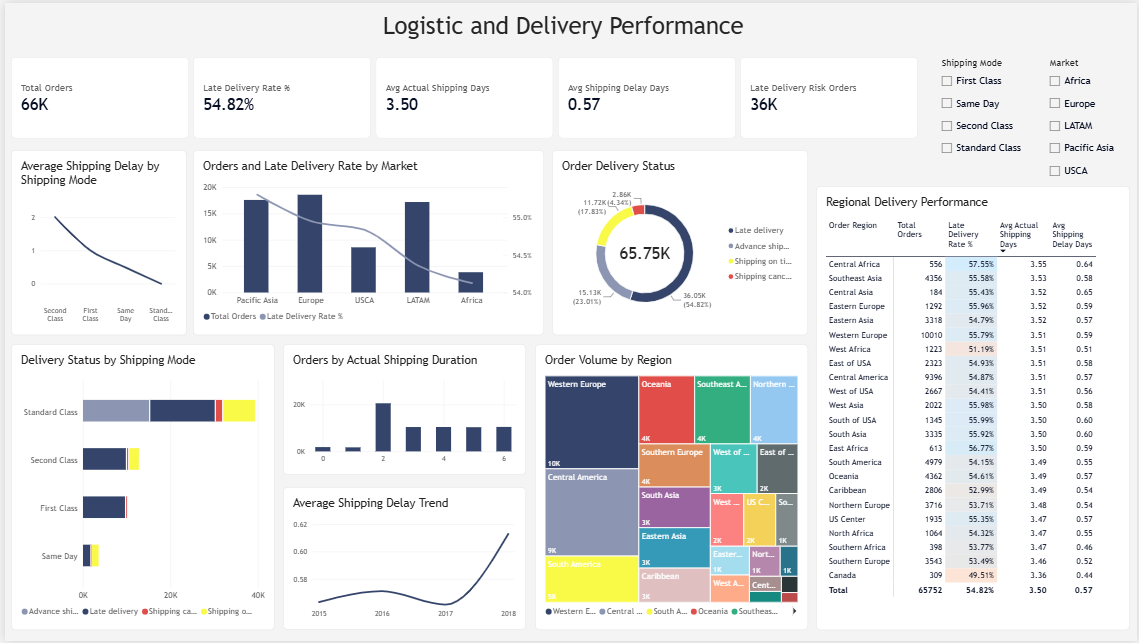

This screenshot's page, from the dashboard's own definition file:
{"tool":"powerbi","page":{"name":"Logistics & Delivery Performance","canvas":[1920,1080],"ordinal":3},"visuals":[{"type":"cardVisual","fields":{"Data":["orders.Total Orders","customers.Late Delivery Rate %","customers.Avg Actual Shipping Days","customers.Avg Shipping Delay Days","customers.Late Delivery Risk Orders"]},"box":[10.2,91.5,1540.7,139],"z":0},{"type":"donutChart","title":"Order Delivery Status","fields":{"Category":["orders.Delivery Status"],"Y":["Count(orders.Order Id)"]},"box":[927.1,249.2,433.9,313.6],"z":1000},{"type":"barChart","title":"Delivery Status by Shipping Mode","fields":{"Category":["orders.Shipping Mode"],"Series":["orders.Delivery Status"],"Y":["Count(orders.Order Id)"]},"box":[10.2,578,447.5,484.7],"z":2000},{"type":"lineChart","title":"Average Shipping Delay by Shipping Mode","fields":{"Category":["orders.Shipping Mode"],"Y":["customers.Avg Shipping Delay Days"]},"box":[10.2,249.2,298.3,313.6],"z":3000},{"type":"lineClusteredColumnComboChart","title":"Orders and Late Delivery Rate by Market","fields":{"Category":["orders.Market"],"Y":["orders.Total Orders"],"Y2":["customers.Late Delivery Rate %"]},"box":[318.6,249.2,594.9,313.6],"z":4000},{"type":"pivotTable","title":"Regional Delivery Performance","fields":{"Rows":["orders.Order Region"],"Values":["orders.Total Orders","customers.Late Delivery Rate %","customers.Avg Actual Shipping Days","customers.Avg Shipping Delay Days"]},"box":[1374.6,310.2,532.2,752.5],"z":5000},{"type":"lineChart","title":"Average Shipping Delay Trend","fields":{"Category":["orders.order date (DateOrders).Variation.Date Hierarchy.Year","orders.order date (DateOrders).Variation.Date Hierarchy.Quarter","orders.order date (DateOrders).Variation.Date Hierarchy.Month"],"Y":["customers.Avg Shipping Delay Days"]},"box":[471.2,820.3,411.9,242.4],"z":6000},{"type":"clusteredColumnChart","title":"Orders by Actual Shipping Duration","fields":{"Category":["orders.Days for shipping (real)"],"Y":["orders.Total Orders"]},"box":[471.2,578,411.9,222],"z":7000},{"type":"slicer","fields":{"Values":["orders.Shipping Mode"]},"box":[1579.7,91.5,183.1,172.9],"z":8000},{"type":"slicer","fields":{"Values":["orders.Market"]},"box":[1762.7,91.5,144.1,215.3],"z":9000},{"type":"treemap","title":"Order Volume by Region","fields":{"Group":["orders.Order Region"],"Values":["orders.Total Orders"]},"box":[898.3,578,462.7,484.7],"z":10000},{"type":"textbox","title":"Logistic and Delivery Performance","box":[586.4,15.3,718.6,61],"z":10001}]}

Visuals, with their boxes in screenshot pixels (x1, y1, x2, y2), scaled from the page's 1920x1080 canvas onto the 1139x643 screenshot:
cardVisual - orders.Total Orders x customers.Late Delivery Rate %: 6,54,920,137
"Order Delivery Status" donutChart: 550,148,807,335
"Delivery Status by Shipping Mode" barChart: 6,344,272,633
"Average Shipping Delay by Shipping Mode" lineChart: 6,148,183,335
"Orders and Late Delivery Rate by Market" lineClusteredColumnComboChart: 189,148,542,335
"Regional Delivery Performance" pivotTable: 815,185,1131,633
"Average Shipping Delay Trend" lineChart: 280,488,524,633
"Orders by Actual Shipping Duration" clusteredColumnChart: 280,344,524,476
slicer - orders.Shipping Mode: 937,54,1046,157
slicer - orders.Market: 1046,54,1131,183
"Order Volume by Region" treemap: 533,344,807,633
"Logistic and Delivery Performance" textbox: 348,9,774,45
